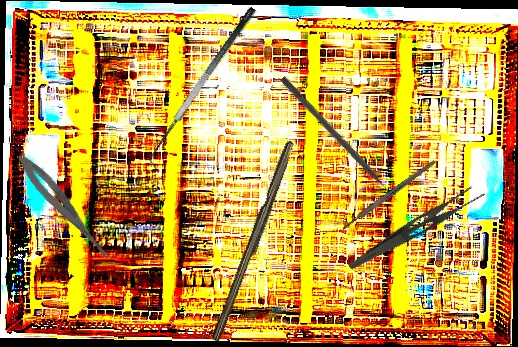Dressing Forceps: (347, 176, 487, 285)
Micro Scissor: (11, 149, 121, 267)
Pusher: (278, 75, 401, 206)
Scalpel Handle: (211, 138, 298, 345), (340, 158, 438, 232)
Spatula Surgical: (139, 5, 269, 173)
